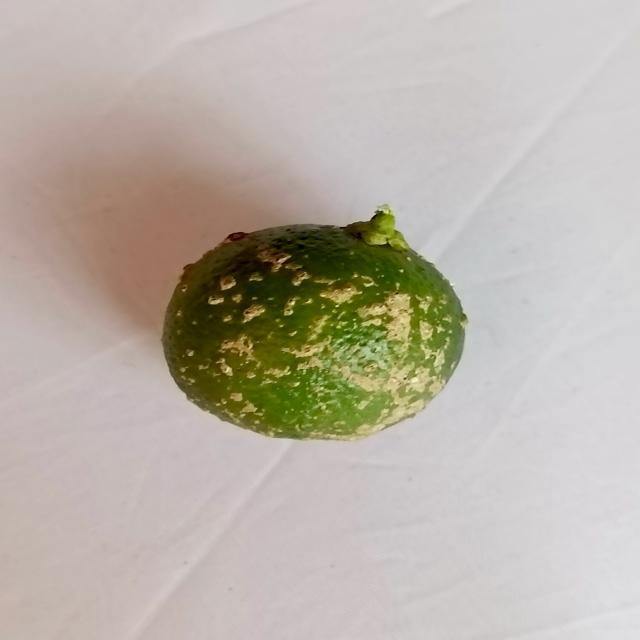scab: (157, 222, 462, 443)
